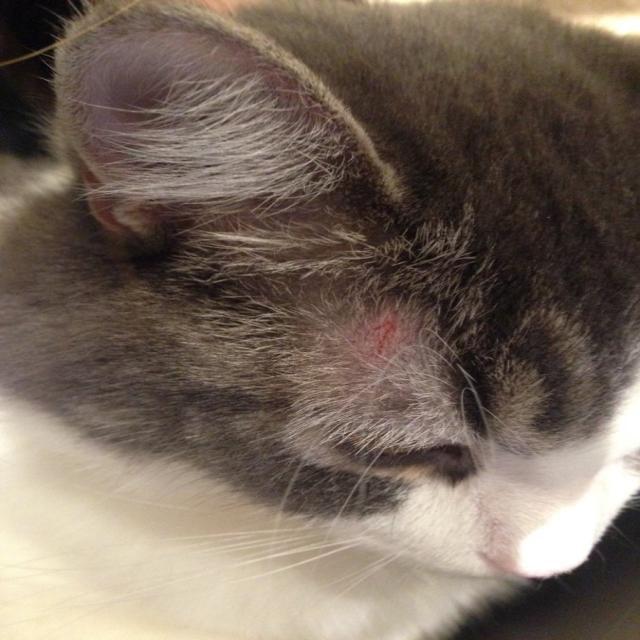hac lao: (314, 278, 462, 393)
